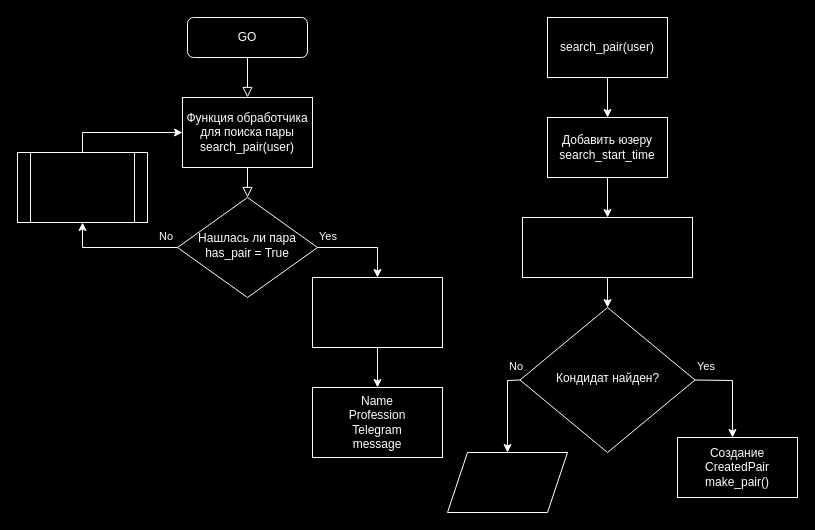
The diagram is 815 pixels wide and 530 high, and some of its shapes have lost their labels. Here are the shapes that lost their labels. From the top down, the centre of each, then its label:
At pixel 82 187: "Обработчик попробовать ешё раз button".
At pixel 607 247: "Поиск кондидата .filter(has_pair=False). exclude(passedpair=pair).first()".
At pixel 377 312: "Функция обработчика для выдачи контактов give_contacts()".
At pixel 507 482: "return False".
